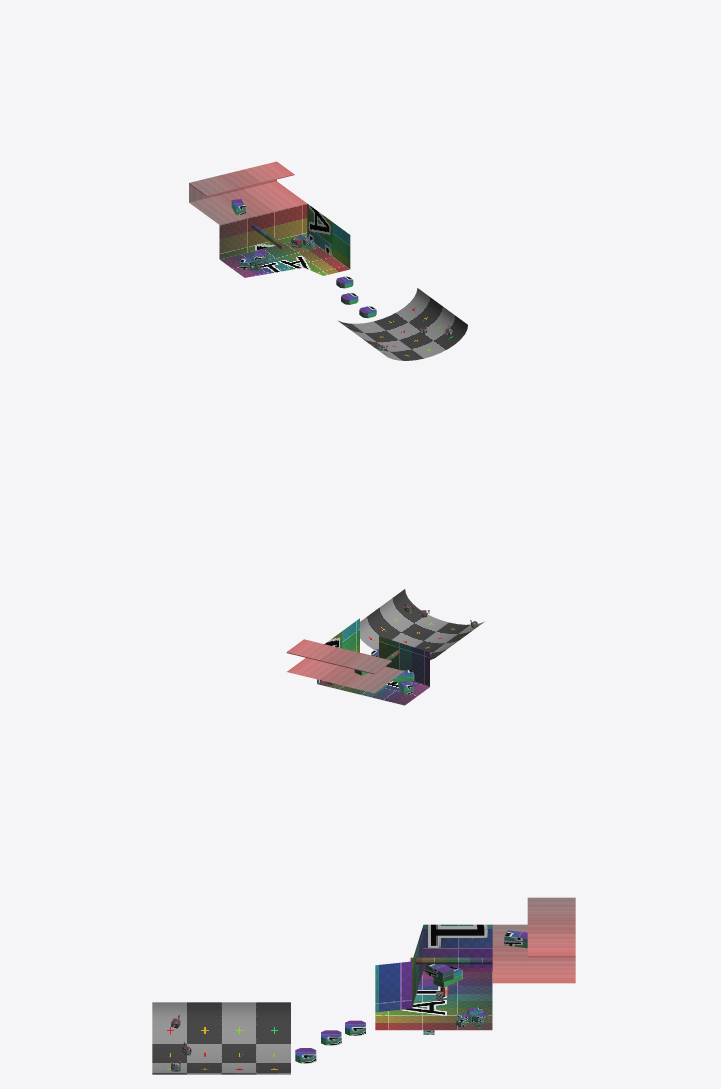
File: warehouse.glb
3 views of the same model, one above another, from view 1: azimuth 30°, elevation 25°; view 2: azimuth 150°, elevation 25°; view 3: azimuth 270°, elevation 25° (orthographic). The views are drawn at different scales.
Visible parts, largest first — view 1: Cube, Cylinder; view 2: Cube, Cylinder; view 3: Cube, Cylinder, Circle.
Boxes of the visible parts, bbox=[...] form: Cube: bbox=[189, 161, 350, 277]; Cylinder: bbox=[338, 288, 467, 360]; Cube: bbox=[286, 618, 429, 705]; Cylinder: bbox=[360, 589, 484, 659]; Cube: bbox=[375, 897, 575, 1034]; Cylinder: bbox=[152, 1002, 290, 1074]; Circle: bbox=[410, 957, 492, 964].
Size of the model in its own units: 200 by 60.65 by 200.
5 materials, 5 textured.
